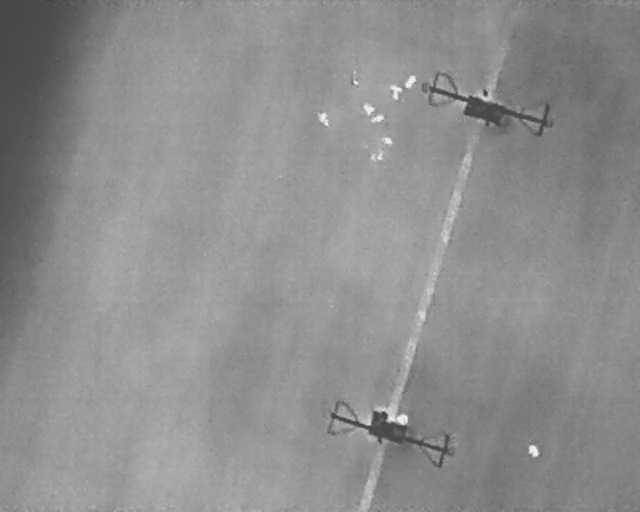Person: (315, 109, 332, 130), (401, 72, 420, 90), (368, 112, 387, 127), (389, 82, 403, 102), (349, 68, 360, 87), (396, 413, 409, 426), (361, 103, 375, 115), (528, 443, 539, 458), (382, 135, 393, 147)
